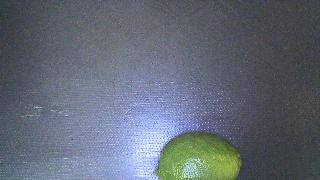EXPORTACION: (156, 132, 242, 180)
